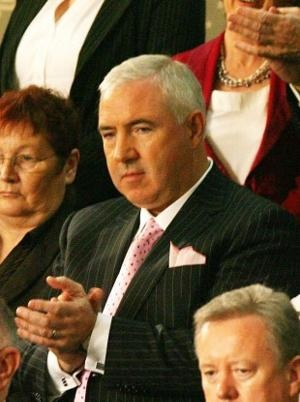person without safety: (49, 46, 300, 392), (1, 69, 90, 276)
